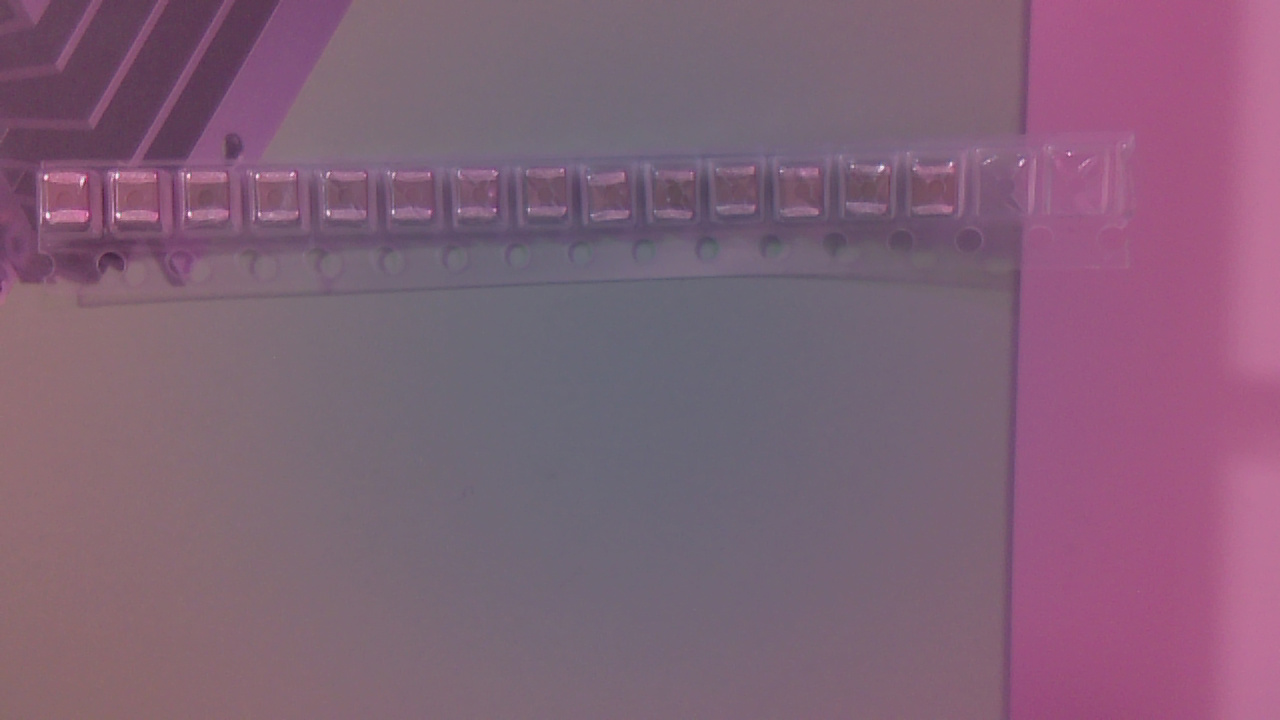Condensator: (913, 162, 965, 222), (393, 173, 441, 230), (459, 168, 506, 225), (588, 174, 640, 225), (718, 168, 766, 223), (191, 174, 238, 230), (851, 163, 898, 219), (260, 172, 307, 227), (50, 175, 95, 230), (120, 176, 167, 228), (784, 170, 830, 223), (658, 173, 704, 225), (532, 170, 573, 225), (333, 174, 376, 224)
